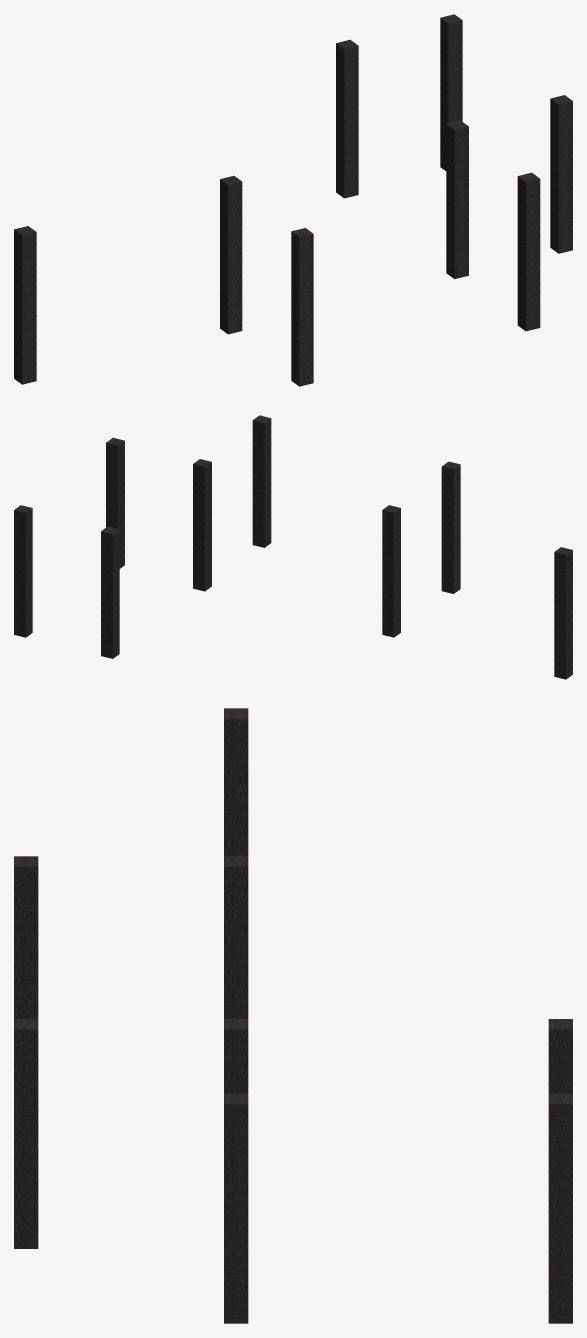
The picture shows the model from 3 angles, top to bottom: view 1: azimuth 30°, elevation 25°; view 2: azimuth 150°, elevation 25°; view 3: azimuth 270°, elevation 25°; orthographic projection. The views are drawn at different scales.
Parts seen in each view (by area): view 1: Columns_Rectangular 300 x 300 mm [624590]001, Columns_Rectangular 300 x 300 mm [625571]001, Columns_Rectangular 300 x 300 mm [625088]001, Columns_Rectangular 300 x 300 mm [624487]001, Columns_Rectangular 300 x 300 mm [624881]001, Columns_Rectangular 300 x 300 mm [625359]001, Columns_Rectangular 300 x 300 mm [625446]001, Columns_Rectangular 300 x 300 mm [625676]001; view 2: Columns_Rectangular 300 x 300 mm [624590]001, Columns_Rectangular 300 x 300 mm [624881]001, Columns_Rectangular 300 x 300 mm [625446]001, Columns_Rectangular 300 x 300 mm [625676]001, Columns_Rectangular 300 x 300 mm [624487]001, Columns_Rectangular 300 x 300 mm [625088]001, Columns_Rectangular 300 x 300 mm [625359]001, Columns_Rectangular 300 x 300 mm [625571]001; view 3: Columns_Rectangular 300 x 300 mm [625571]001, Columns_Rectangular 300 x 300 mm [625676]001, Columns_Rectangular 300 x 300 mm [624590]001, Columns_Rectangular 300 x 300 mm [624881]001, Columns_Rectangular 300 x 300 mm [625359]001, Columns_Rectangular 300 x 300 mm [625088]001, Columns_Rectangular 300 x 300 mm [624487]001, Columns_Rectangular 300 x 300 mm [625446]001.
Boxes of the visible parts, left/top/right/bottom form: Columns_Rectangular 300 x 300 mm [624590]001: left=517, top=172, right=540, bottom=331; Columns_Rectangular 300 x 300 mm [625571]001: left=550, top=95, right=572, bottom=253; Columns_Rectangular 300 x 300 mm [625088]001: left=14, top=226, right=36, bottom=384; Columns_Rectangular 300 x 300 mm [624487]001: left=336, top=39, right=358, bottom=198; Columns_Rectangular 300 x 300 mm [624881]001: left=291, top=228, right=313, bottom=386; Columns_Rectangular 300 x 300 mm [625359]001: left=220, top=176, right=242, bottom=334; Columns_Rectangular 300 x 300 mm [625446]001: left=446, top=120, right=468, bottom=279; Columns_Rectangular 300 x 300 mm [625676]001: left=440, top=14, right=462, bottom=170; Columns_Rectangular 300 x 300 mm [624590]001: left=252, top=415, right=271, bottom=547; Columns_Rectangular 300 x 300 mm [624881]001: left=441, top=461, right=460, bottom=593; Columns_Rectangular 300 x 300 mm [625446]001: left=193, top=459, right=211, bottom=591; Columns_Rectangular 300 x 300 mm [625676]001: left=14, top=505, right=32, bottom=637; Columns_Rectangular 300 x 300 mm [624487]001: left=101, top=526, right=119, bottom=658; Columns_Rectangular 300 x 300 mm [625088]001: left=554, top=547, right=572, bottom=679; Columns_Rectangular 300 x 300 mm [625359]001: left=382, top=505, right=400, bottom=637; Columns_Rectangular 300 x 300 mm [625571]001: left=106, top=437, right=124, bottom=568; Columns_Rectangular 300 x 300 mm [625571]001: left=224, top=1093, right=248, bottom=1323; Columns_Rectangular 300 x 300 mm [625676]001: left=548, top=1093, right=572, bottom=1323; Columns_Rectangular 300 x 300 mm [624590]001: left=14, top=1019, right=38, bottom=1248; Columns_Rectangular 300 x 300 mm [624881]001: left=14, top=856, right=38, bottom=1018; Columns_Rectangular 300 x 300 mm [625359]001: left=224, top=856, right=248, bottom=1018; Columns_Rectangular 300 x 300 mm [625088]001: left=224, top=708, right=248, bottom=856; Columns_Rectangular 300 x 300 mm [624487]001: left=548, top=1019, right=572, bottom=1093; Columns_Rectangular 300 x 300 mm [625446]001: left=224, top=1019, right=248, bottom=1093.
Size of the model in its own units: 11.58 by 3 by 6.91.
Materials: 1 (1 with a texture image).
